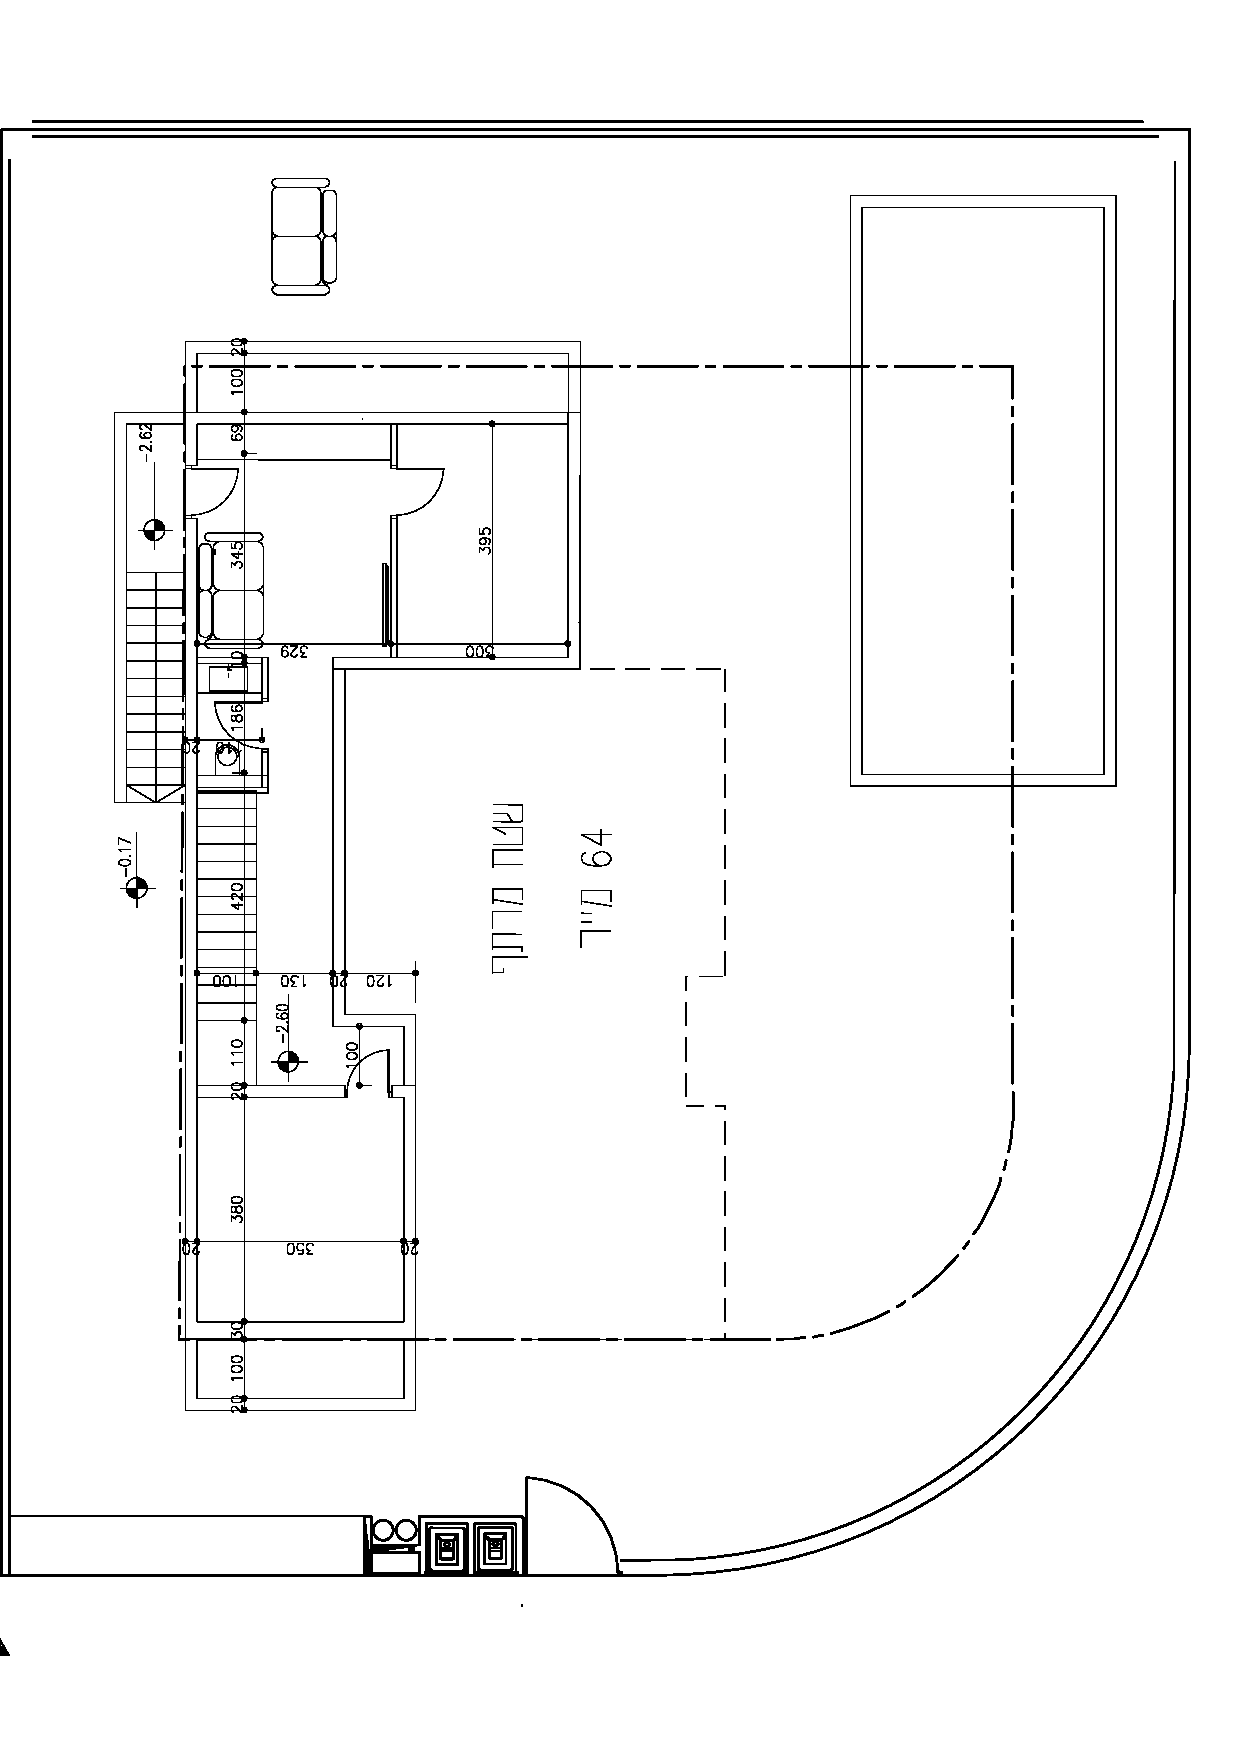door: (400, 459, 460, 523), (201, 458, 248, 521)
wall: (331, 670, 346, 960), (568, 411, 581, 671), (335, 656, 577, 670), (251, 344, 582, 353)
